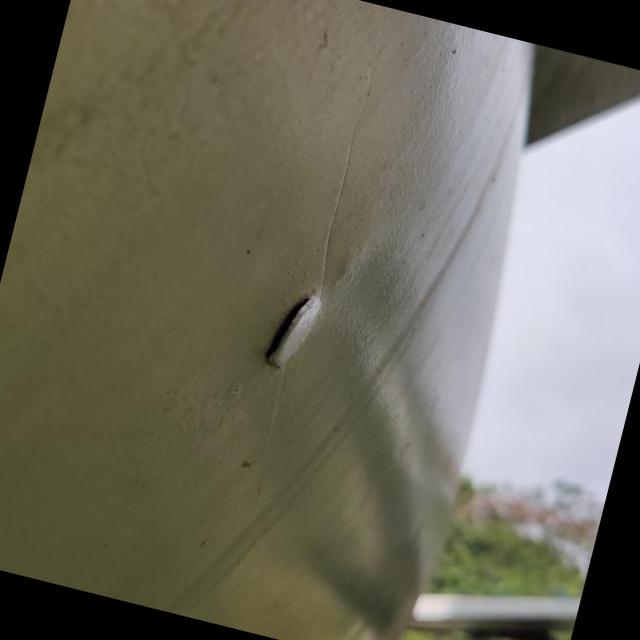Crack: (265, 296, 322, 367)
